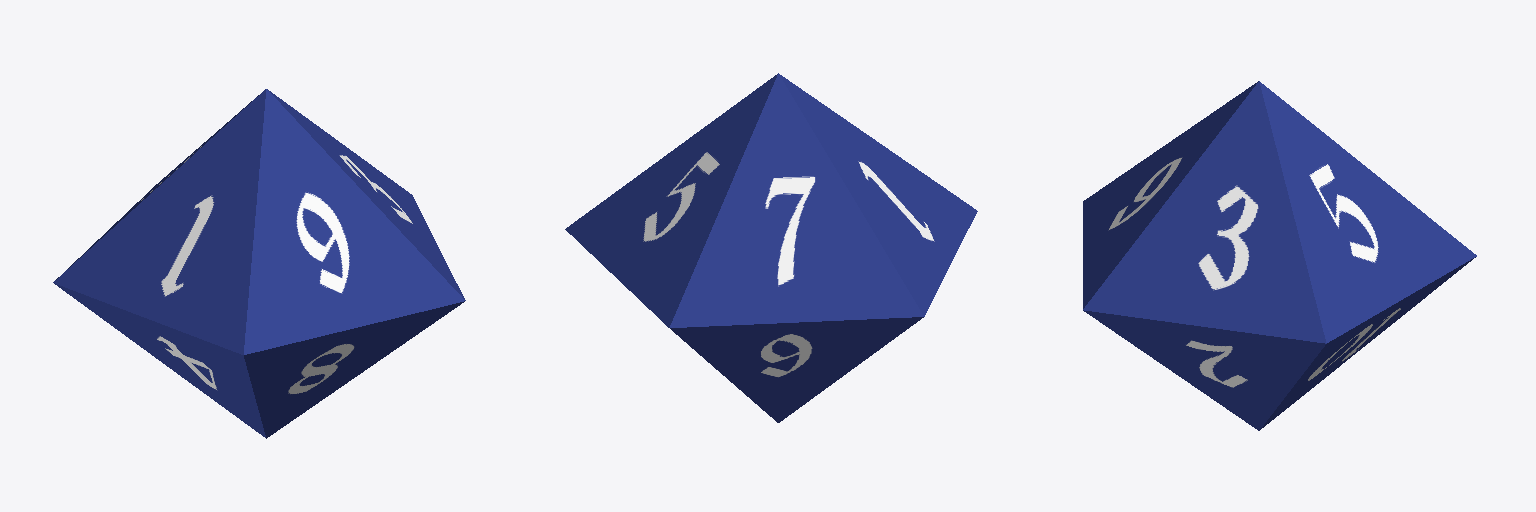
3 renders of one model, left to right at view 1: azimuth 30°, elevation 25°; view 2: azimuth 150°, elevation 25°; view 3: azimuth 270°, elevation 25°, orthographic.
Visible parts, largest first — view 1: Cone_Cone.001; view 2: Cone_Cone.001; view 3: Cone_Cone.001.
Part boxes in pixels (bbox=[...]): Cone_Cone.001: bbox=[53, 89, 465, 438]; Cone_Cone.001: bbox=[565, 73, 977, 422]; Cone_Cone.001: bbox=[1083, 81, 1476, 430].
Size of the model in its own units: 2.15 by 2 by 2.04.
Materials: 10 (10 with a texture image).